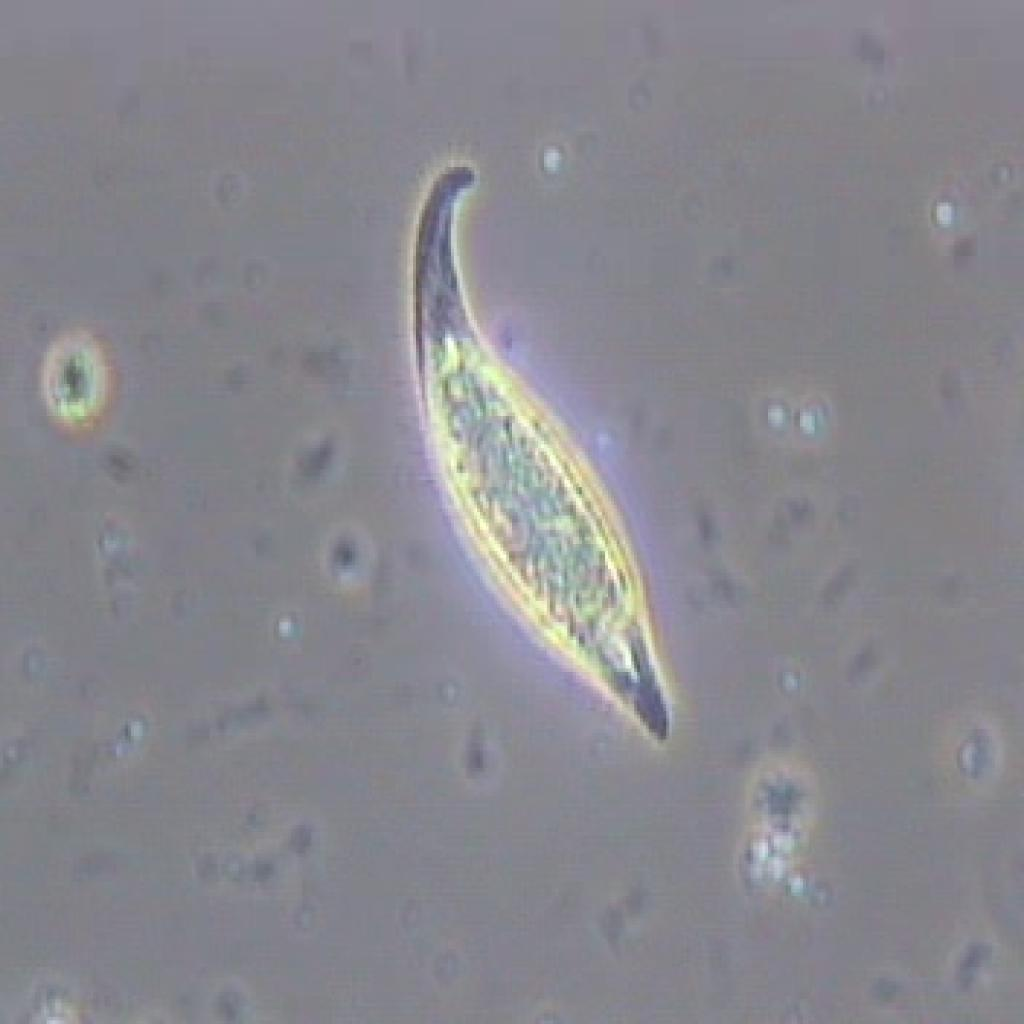Pristina: (362, 153, 688, 757)
